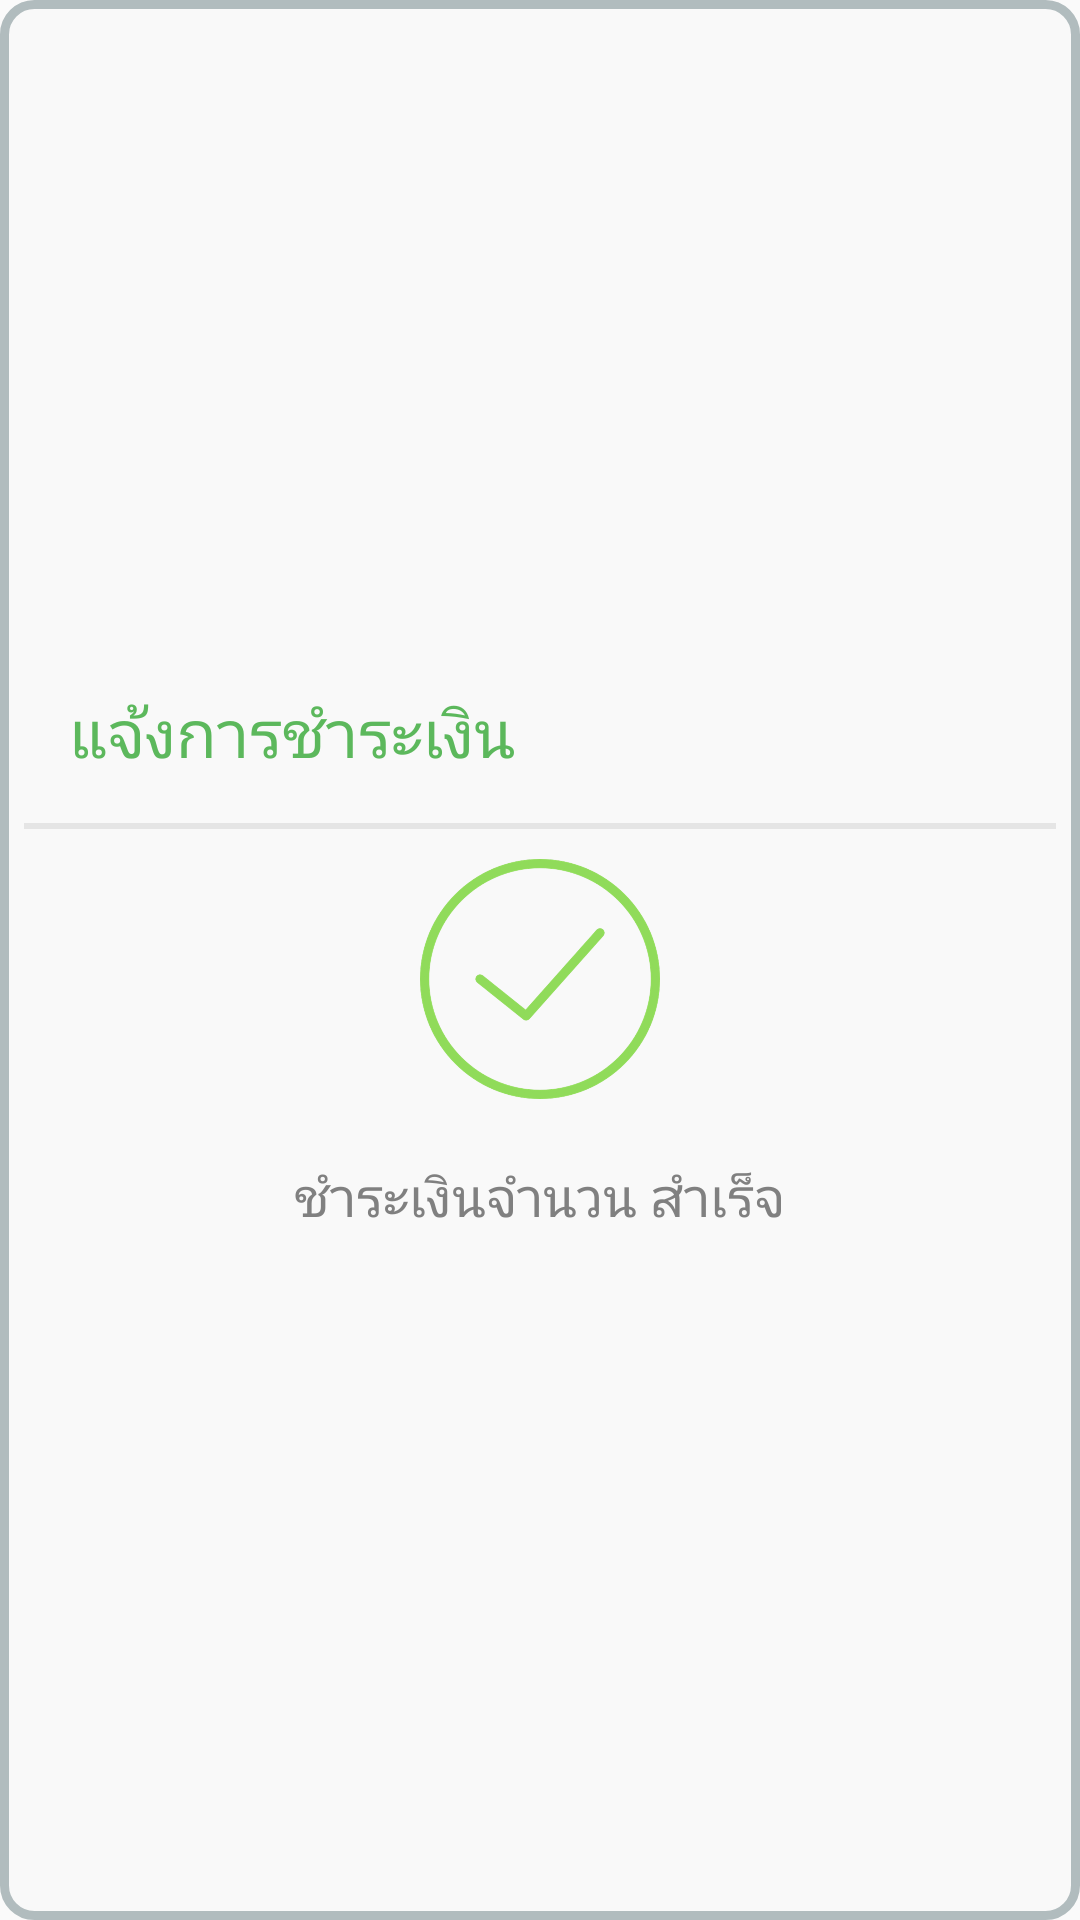

Where icons sit on this 1080 x 1920 app screen, as (x1, y1, x2, y2):
success: (420, 859, 660, 1099)
